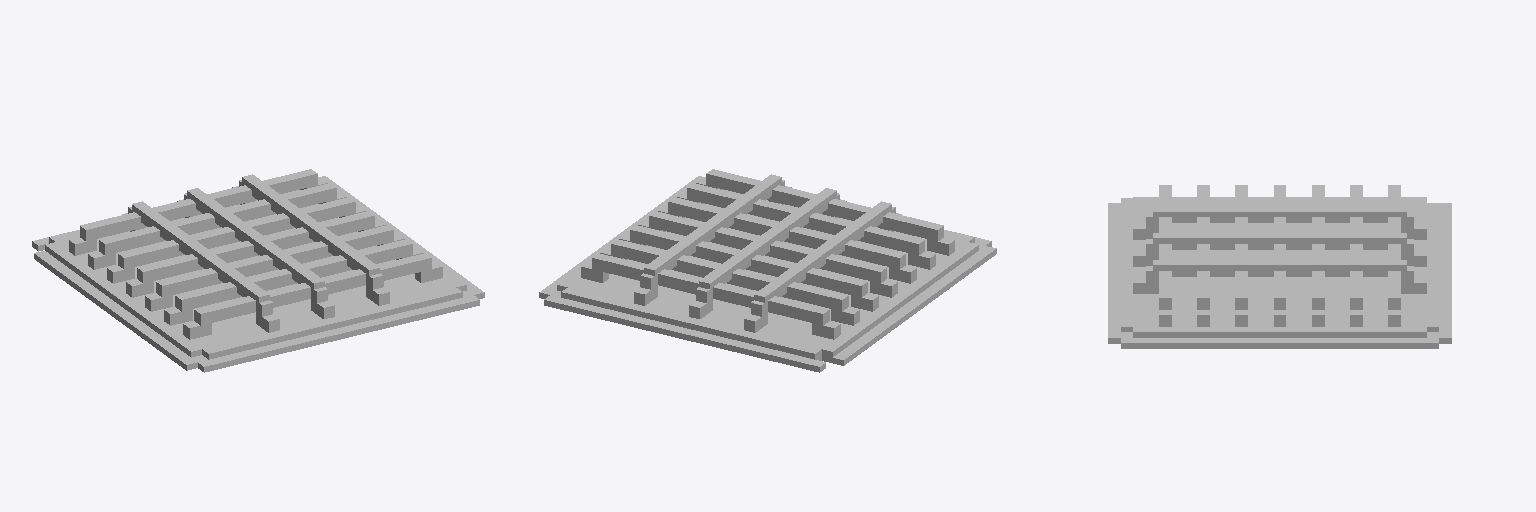
File: Ground plane-3.obj
The picture shows the model from 3 angles: view 1: azimuth 30°, elevation 25°; view 2: azimuth 150°, elevation 25°; view 3: azimuth 270°, elevation 25°; orthographic projection.
Visible parts, largest first — view 1: object 1; view 2: object 1; view 3: object 1.
Boxes of the visible parts, x1=… form: object 1: x1=32, y1=169, x2=484, y2=372; object 1: x1=539, y1=169, x2=996, y2=372; object 1: x1=1108, y1=185, x2=1451, y2=348.
Bounding box in the file's own units: 5.4 × 0.7 × 5.4.